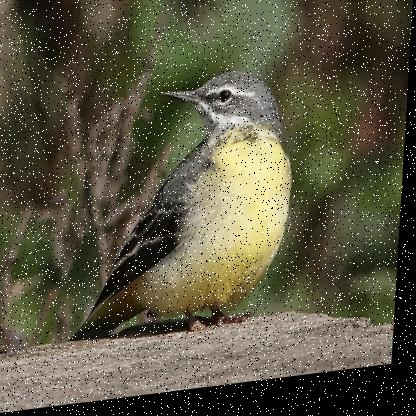Burung: (73, 68, 301, 343)
